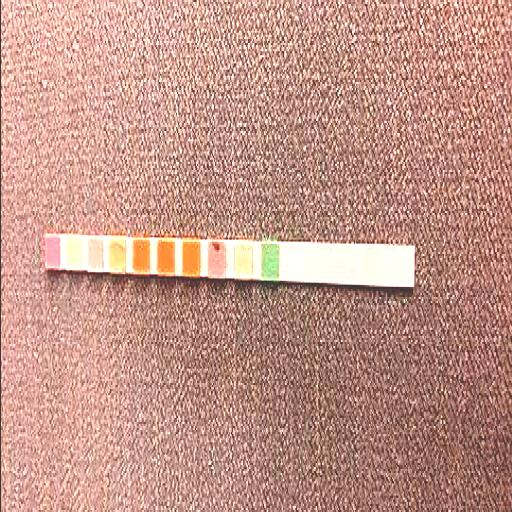Bilirubin: (234, 244, 251, 278)
Blood: (158, 240, 174, 274)
Glucose: (260, 244, 278, 278)
Ketone: (207, 242, 225, 277)
Leukocytes: (44, 235, 58, 267)
Nitrite: (66, 237, 80, 269)
Protein: (108, 238, 124, 272)
SpGravity: (182, 242, 199, 276)
Urobilinogen: (87, 237, 101, 271)
pH: (133, 240, 148, 274)
strip: (44, 234, 413, 285)
